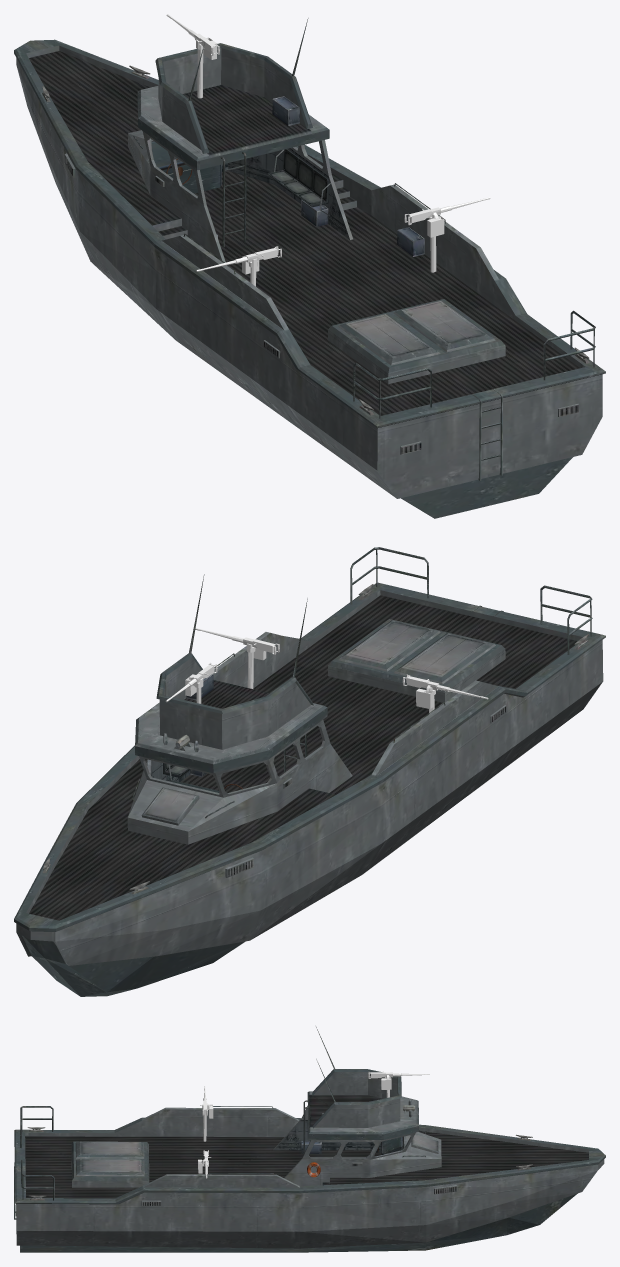
Rendered from boat.glb.
3 renders of one model, top to bottom at view 1: azimuth 30°, elevation 25°; view 2: azimuth 150°, elevation 25°; view 3: azimuth 270°, elevation 25°, orthographic. The views are drawn at different scales.
Parts seen in each view (by area): view 1: hull, GunR, GunRoof, GunL; view 2: hull, GunR, GunL, GunRoof; view 3: hull, GunRoof.
Boxes of the visible parts, x1=… form: hull: x1=14, y1=18, x2=605, y2=518; GunR: x1=404, y1=197, x2=490, y2=272; GunRoof: x1=166, y1=14, x2=219, y2=98; GunL: x1=196, y1=246, x2=281, y2=286; hull: x1=14, y1=547, x2=605, y2=996; GunR: x1=195, y1=628, x2=279, y2=688; GunL: x1=402, y1=674, x2=488, y2=713; GunRoof: x1=165, y1=662, x2=217, y2=703; hull: x1=14, y1=1027, x2=605, y2=1252; GunRoof: x1=368, y1=1071, x2=429, y2=1097.
Bounding box in the file's own units: 5.24 × 5.24 × 14.33.
2 materials, 1 textured.
